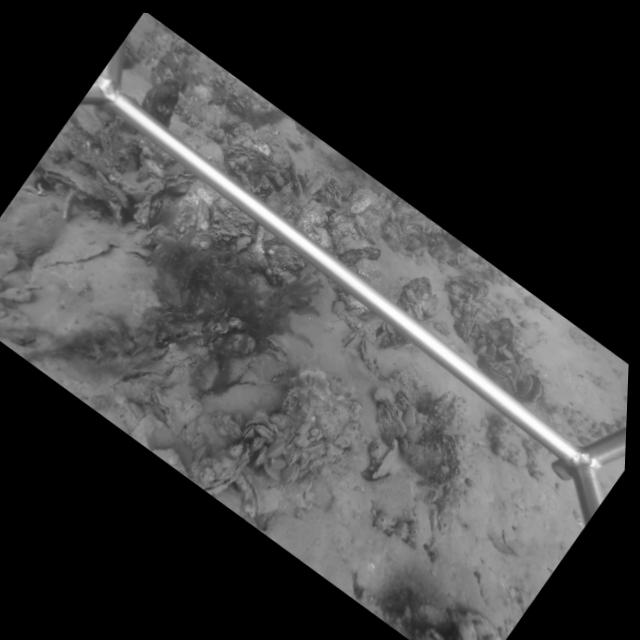Oyster-Closed: (38, 223, 119, 271), (43, 165, 109, 206), (200, 444, 251, 497), (367, 434, 400, 482), (151, 390, 184, 438), (237, 469, 263, 517), (333, 239, 380, 264), (481, 362, 517, 394), (287, 159, 305, 198), (305, 172, 328, 199), (280, 464, 298, 487), (253, 425, 275, 443), (465, 309, 477, 342), (283, 445, 299, 467), (188, 433, 208, 450), (191, 444, 209, 462), (252, 435, 267, 451), (240, 426, 253, 442)
Oyster-Open: (515, 373, 546, 405), (161, 170, 196, 198), (341, 332, 361, 351)
